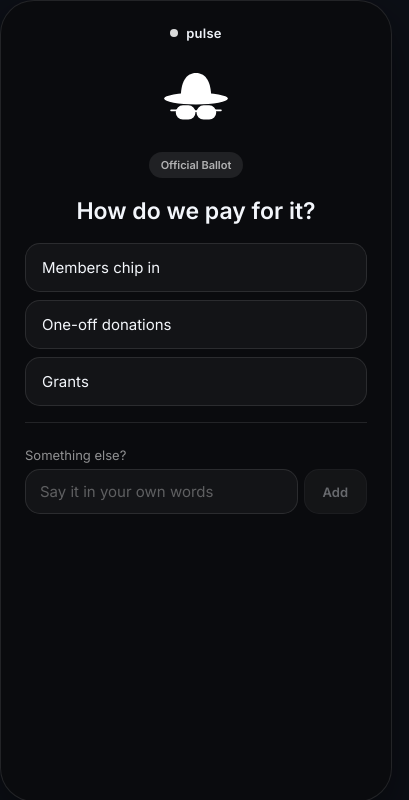
Test: saying something the poll did not offer › counts the person in rather than telling them off for a duplicate
Type "members pay monthly" into the field labelled "Something else?" at {"x": 161, "y": 492}, box [25,469,298,514]
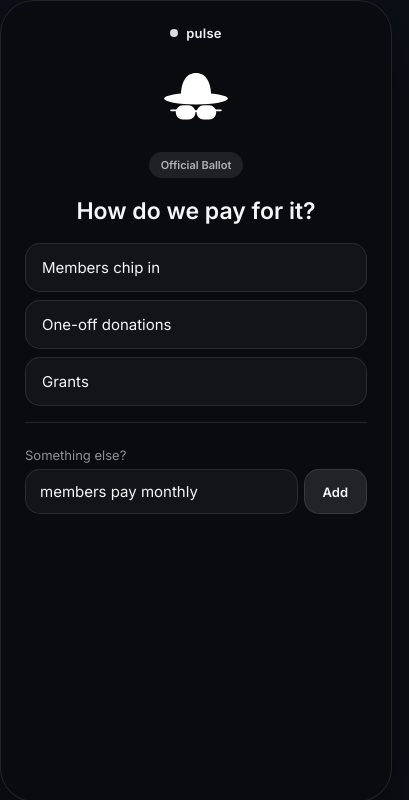
Click the button "Add" at {"x": 335, "y": 492}, box [304,469,367,514]
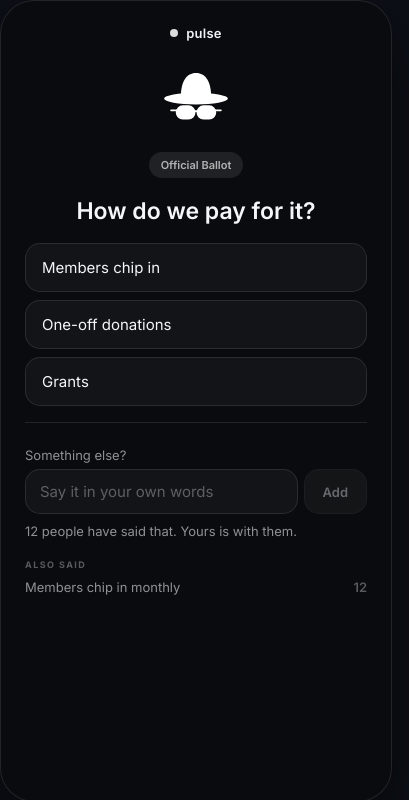
Check: the message shows "12 people have said that", box [25,523,297,539]
Check: the message shows "Yours is with them", box [25,523,297,539]
